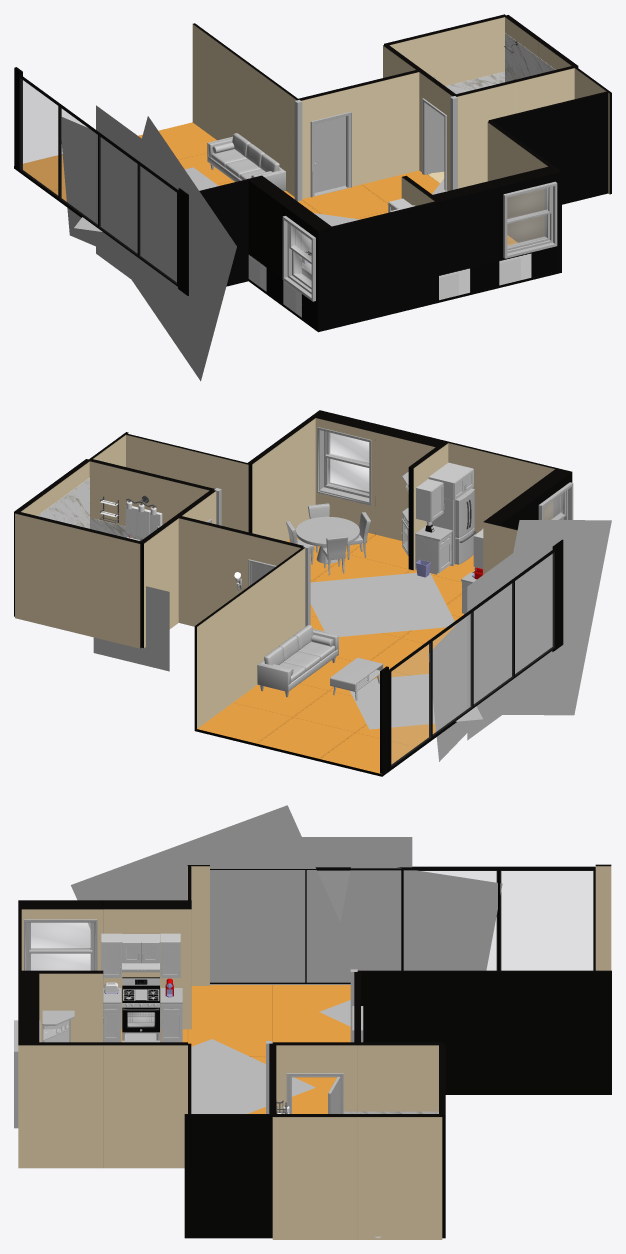
The model's file is New_Room.gltf.
3 views of the same model, one above another, from view 1: azimuth 30°, elevation 25°; view 2: azimuth 150°, elevation 25°; view 3: azimuth 270°, elevation 25° (orthographic). The views are drawn at different scales.
Parts seen in each view (by area): view 1: Windows_001, Plane__6_, Plane__9_, Int_Apt_01_Wall_03__4_, Int_Apt_01_Wall_01__9_, Int_Apt_01_Wall_01__10_, Int_Apt_01_Wall_01, Int_Apt_01_Wall_01__46_1, Int_Apt_01_Wall_03__11_, Int_Apt_01_Wall_01__5_, Int_Apt_01_Wall_01__12_1, Plane__7_ (+38 smaller); view 2: Windows_001, Plane__6_, Plane__9_, Plane__3_, Int_Apt_01_Wall_01__16__1, Int_Apt_01_Wall_01__13__1, Int_Apt_02_Wall_01, Int_Apt_01_Wall_03__4_, Int_Apt_01_Wall_01__12_1, Plane__7_, Int_Apt_01_Wall_01__12_, Int_Apt_01_Wall_01__42_ (+53 smaller); view 3: Plane__9_, Plane__7_, Windows_001, Int_Apt_01_Wall_01__71_, Int_Apt_01_Wall_01__44_, Int_Apt_01_Wall_01__22_1, Int_Apt_01_Wall_01__45_, Int_Apt_01_Wall_01__12_1, Int_Apt_01_Wall_01__12_, Int_Apt_01_Wall_01__70_, Int_Apt_01_Wall_01__11_, Int_Apt_01_Wall_01__2_ (+28 smaller).
Boxes of the visible parts, x1,y1,x2,y2 form: Windows_001: (18, 74, 179, 287); Plane__6_: (96, 105, 177, 313); Plane__9_: (132, 116, 236, 381); Int_Apt_01_Wall_03__4_: (427, 181, 499, 299); Int_Apt_01_Wall_01__9_: (317, 215, 378, 332); Int_Apt_01_Wall_01__10_: (377, 201, 438, 317); Int_Apt_01_Wall_01: (360, 71, 419, 184); Int_Apt_01_Wall_01__46_1: (549, 91, 610, 204); Int_Apt_01_Wall_03__11_: (247, 175, 297, 303); Int_Apt_01_Wall_01__5_: (455, 81, 516, 188); Int_Apt_01_Wall_01__12_1: (192, 23, 229, 140); Plane__7_: (61, 116, 95, 246); Windows_001: (388, 548, 555, 769); Plane__6_: (467, 525, 552, 740); Plane__9_: (503, 520, 611, 715); Plane__3_: (310, 573, 456, 636); Int_Apt_01_Wall_01__16__1: (77, 527, 141, 648); Int_Apt_01_Wall_01__13__1: (15, 512, 78, 633); Int_Apt_02_Wall_01: (176, 516, 239, 626); Int_Apt_01_Wall_03__4_: (376, 426, 449, 541); Int_Apt_01_Wall_01__12_1: (194, 600, 232, 728); Plane__7_: (428, 616, 467, 761); Int_Apt_01_Wall_01__12_: (231, 573, 269, 702); Int_Apt_01_Wall_01__42_: (250, 437, 288, 541); Plane__9_: (71, 805, 361, 984); Plane__7_: (340, 860, 502, 970); Windows_001: (210, 866, 595, 983); Int_Apt_01_Wall_01__71_: (18, 1043, 103, 1168); Int_Apt_01_Wall_01__44_: (272, 1115, 357, 1239); Int_Apt_01_Wall_01__22_1: (184, 1114, 269, 1238); Int_Apt_01_Wall_01__45_: (357, 1115, 442, 1239); Int_Apt_01_Wall_01__12_1: (527, 970, 611, 1094); Int_Apt_01_Wall_01__12_: (442, 970, 527, 1094); Int_Apt_01_Wall_01__70_: (103, 1043, 187, 1168); Int_Apt_01_Wall_01__11_: (357, 970, 442, 1042); Int_Apt_01_Wall_01__2_: (357, 1043, 439, 1111).
Bounding box in the file's own units: 18.5 × 9 × 17.63.
